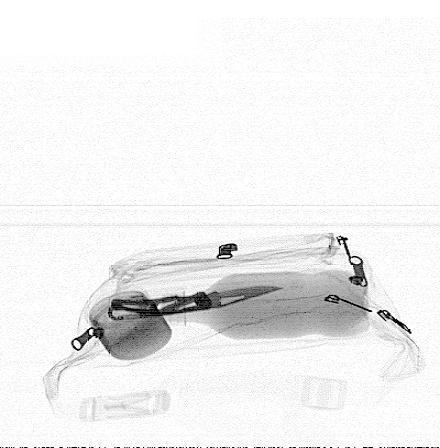Knife: (106, 285, 286, 321)
